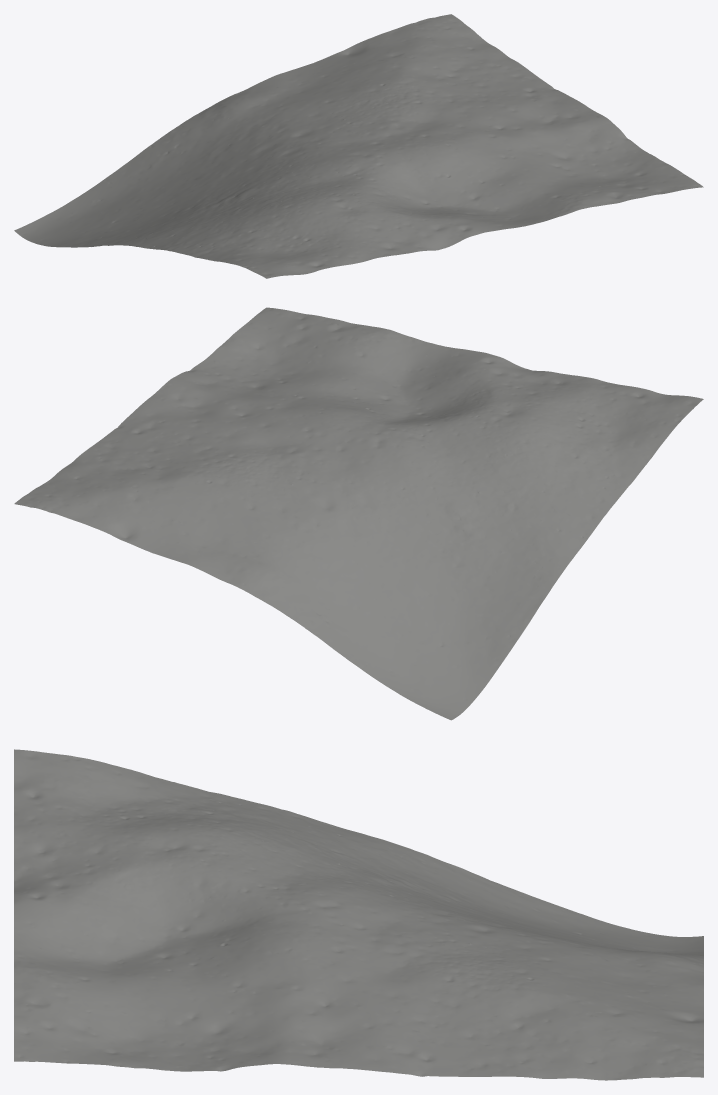
Rendered from shoemaker-rim-a.glb.
The picture shows the model from 3 angles, top to bottom: view 1: azimuth 30°, elevation 25°; view 2: azimuth 150°, elevation 25°; view 3: azimuth 270°, elevation 25°; orthographic projection. The views are drawn at different scales.
Visible parts, largest first — view 1: Shoemaker Rim A terrain; view 2: Shoemaker Rim A terrain; view 3: Shoemaker Rim A terrain.
Boxes of the visible parts, x1,y1,x2,y2 form: Shoemaker Rim A terrain: (14, 14, 703, 278); Shoemaker Rim A terrain: (14, 307, 703, 720); Shoemaker Rim A terrain: (14, 749, 703, 1080).
Bounding box in the file's own units: 11995 × 3598 × 11995.
Materials: 1 (1 with a texture image).
